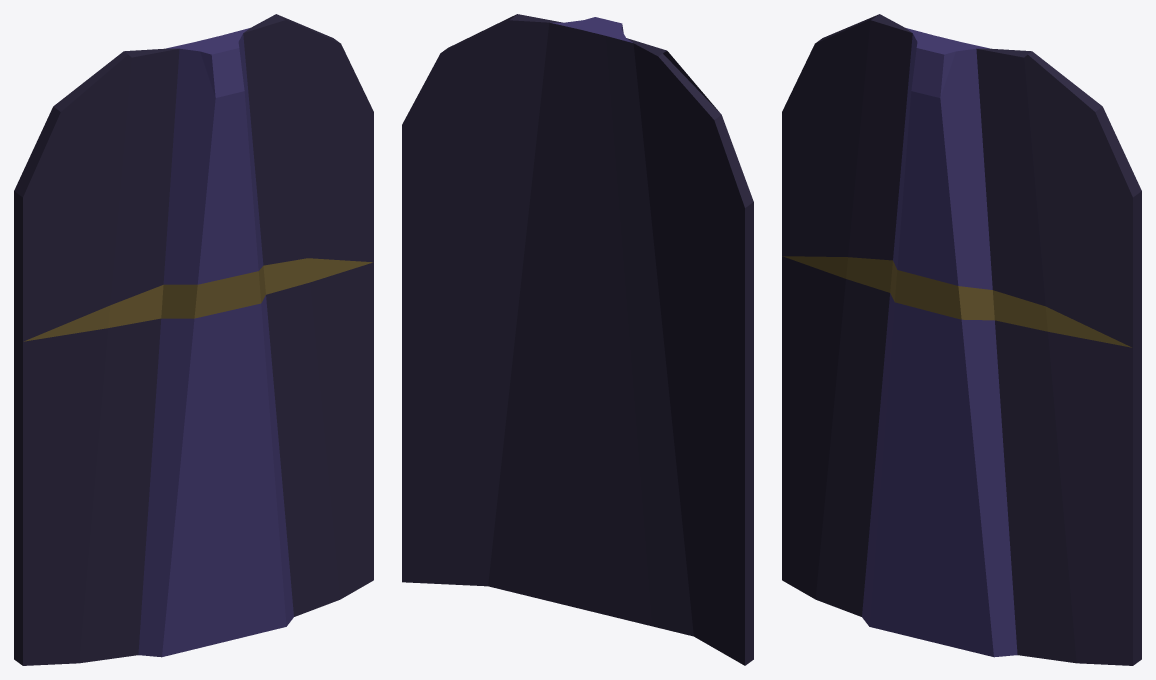
Rendered from pavise.glb.
3 views of the same model, side by side, from view 1: azimuth 30°, elevation 25°; view 2: azimuth 150°, elevation 25°; view 3: azimuth 330°, elevation 25° (orthographic). The views are drawn at different scales.
Parts seen in each view (by area): view 1: Shield - Pavise - Snowden; view 2: Shield - Pavise - Snowden; view 3: Shield - Pavise - Snowden.
Part boxes in pixels (bbox=[...]): Shield - Pavise - Snowden: bbox=[14, 14, 373, 665]; Shield - Pavise - Snowden: bbox=[402, 14, 753, 665]; Shield - Pavise - Snowden: bbox=[782, 14, 1141, 665].
Bounding box in the file's own units: 0.6579 × 1.06 × 0.1319.
